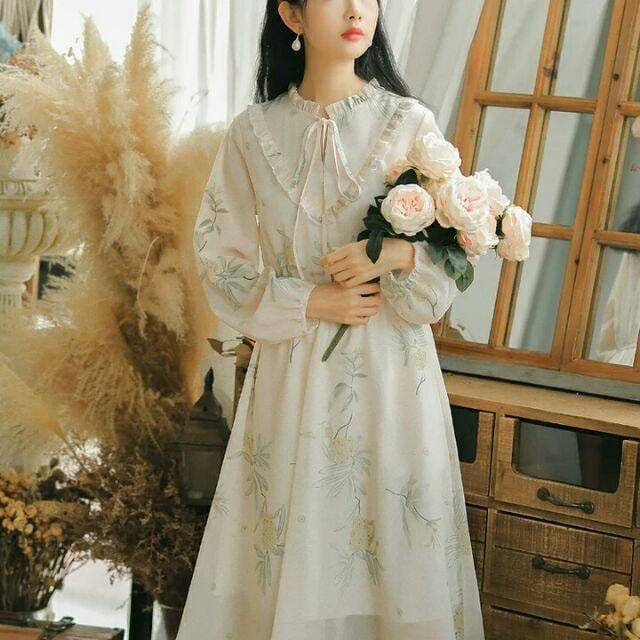clothes: (184, 83, 483, 640)
